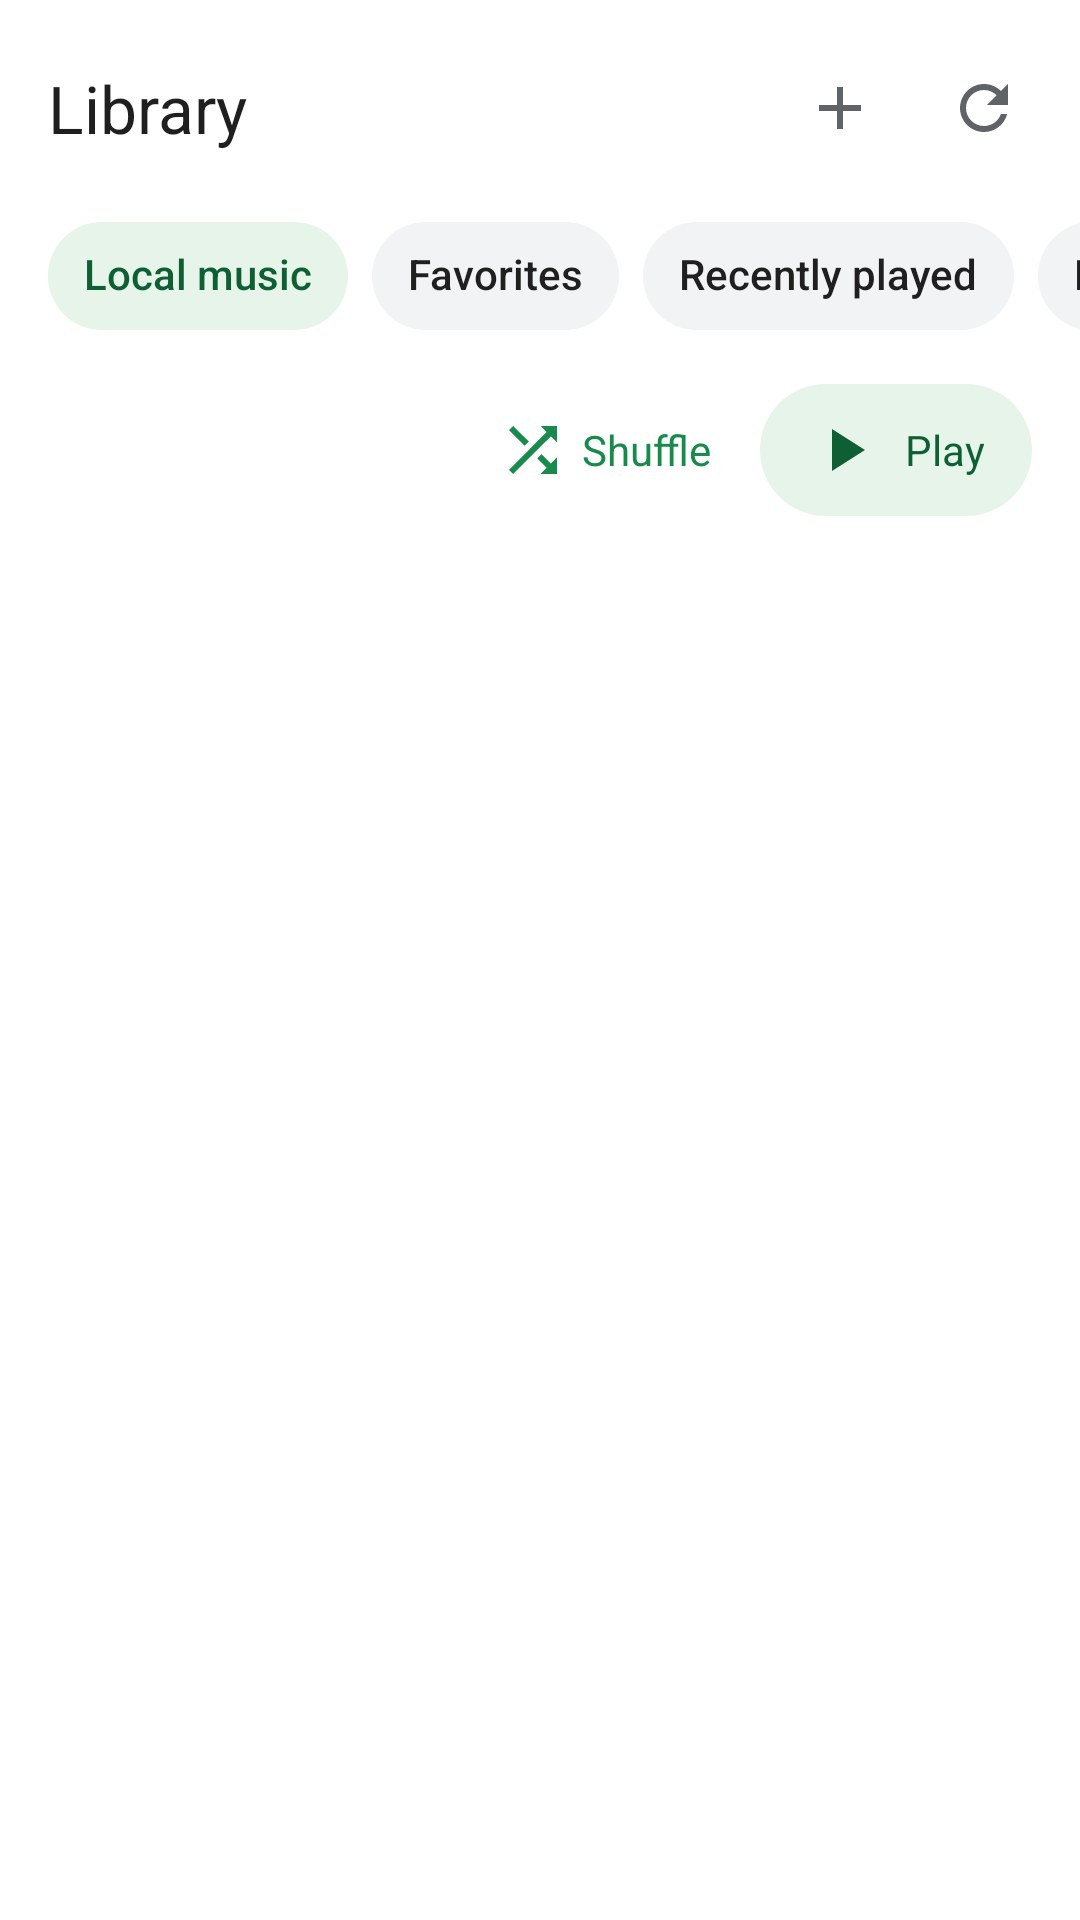

Icons on this 1080×1920 Android screen, each with the point to tap as (x=x, y=y):
New playlist: (x=840, y=108)
Rescan: (x=984, y=108)
